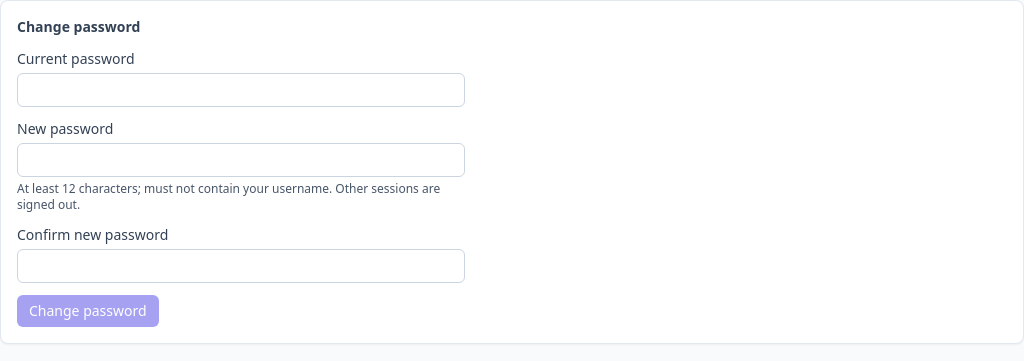
Scenario: own password change stays available to VIEWER › VIEWER: the change-password form is enabled and submits
The image size is (1024, 361).
Later steps or results of the test are not shown.
In the password field with test id "account-current-password": (241, 90) [17,73,465,107], type "old-password-123"
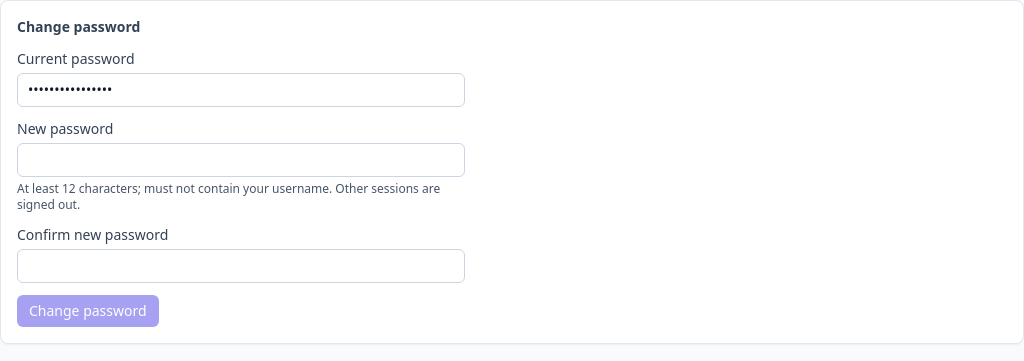
In the password field with test id "account-new-password": (241, 160) [17,143,465,177], type "a-much-longer-new-password"
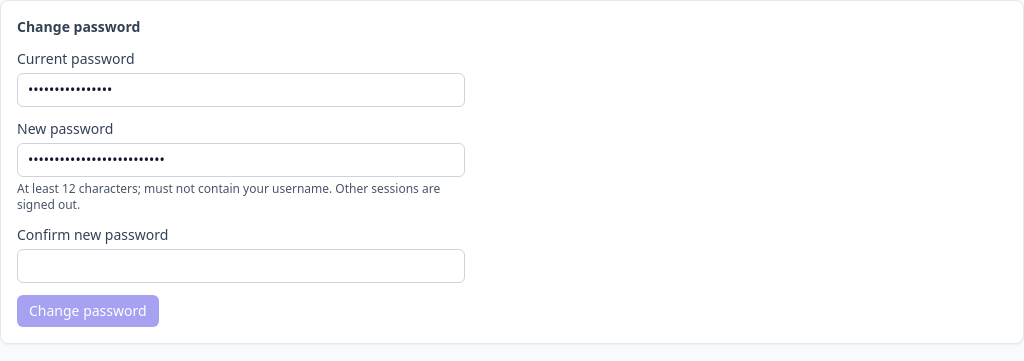
In the password field with test id "account-confirm-password": (241, 266) [17,249,465,283], type "a-much-longer-new-password"
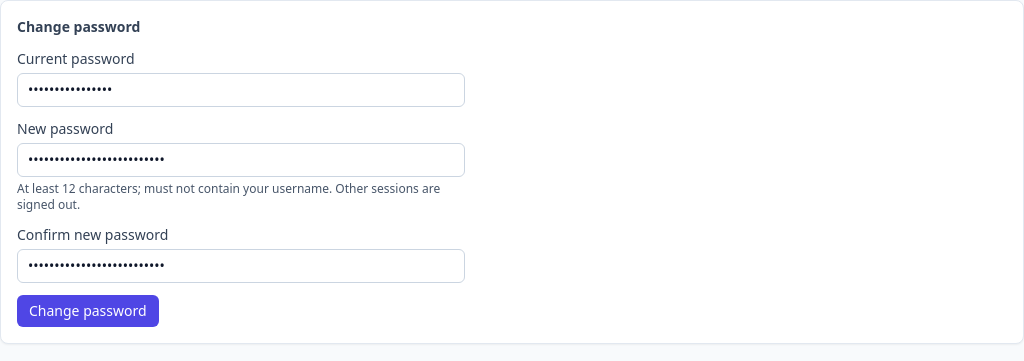
Expected: the button with test id "account-password-submit" is enabled, [17,295,159,327]
